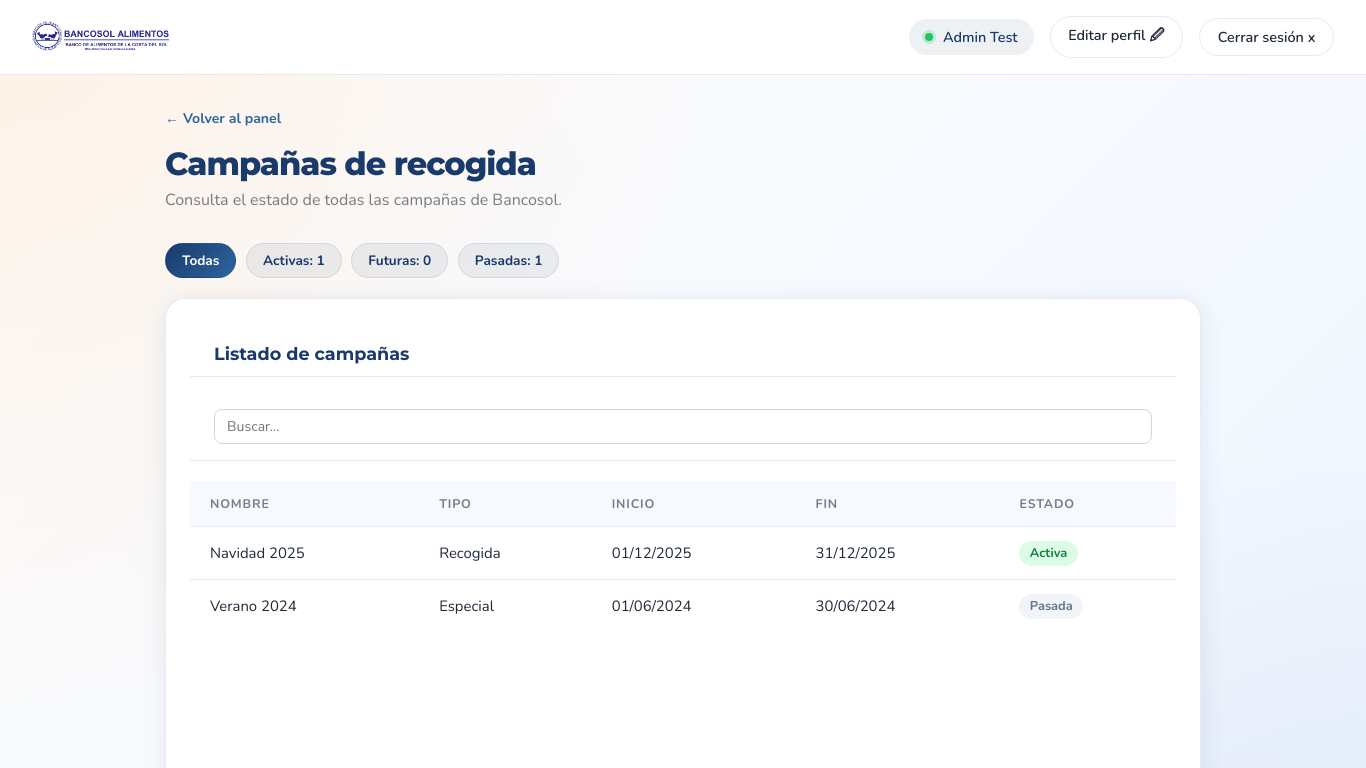
Scenario: Campaigns (ver campañas) › el chip de estado filtra las filas
Check: the text "Navidad 2025" is shown, box [190, 526, 419, 579]
Click the button "Pasadas: 1" at (509, 260), box [458, 243, 559, 278]
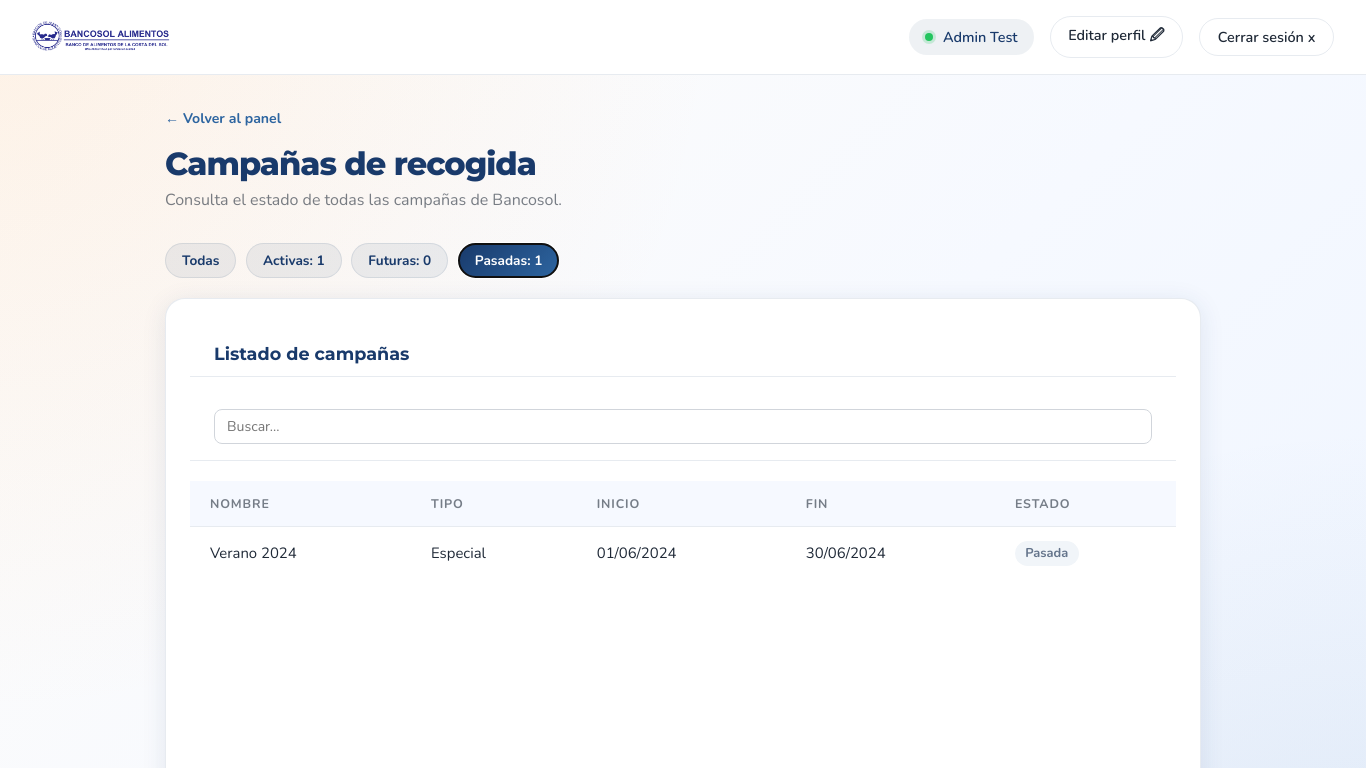
Check: the text "Verano 2024" is shown, box [190, 526, 411, 578]
Check: the text "Navidad 2025" is gone
